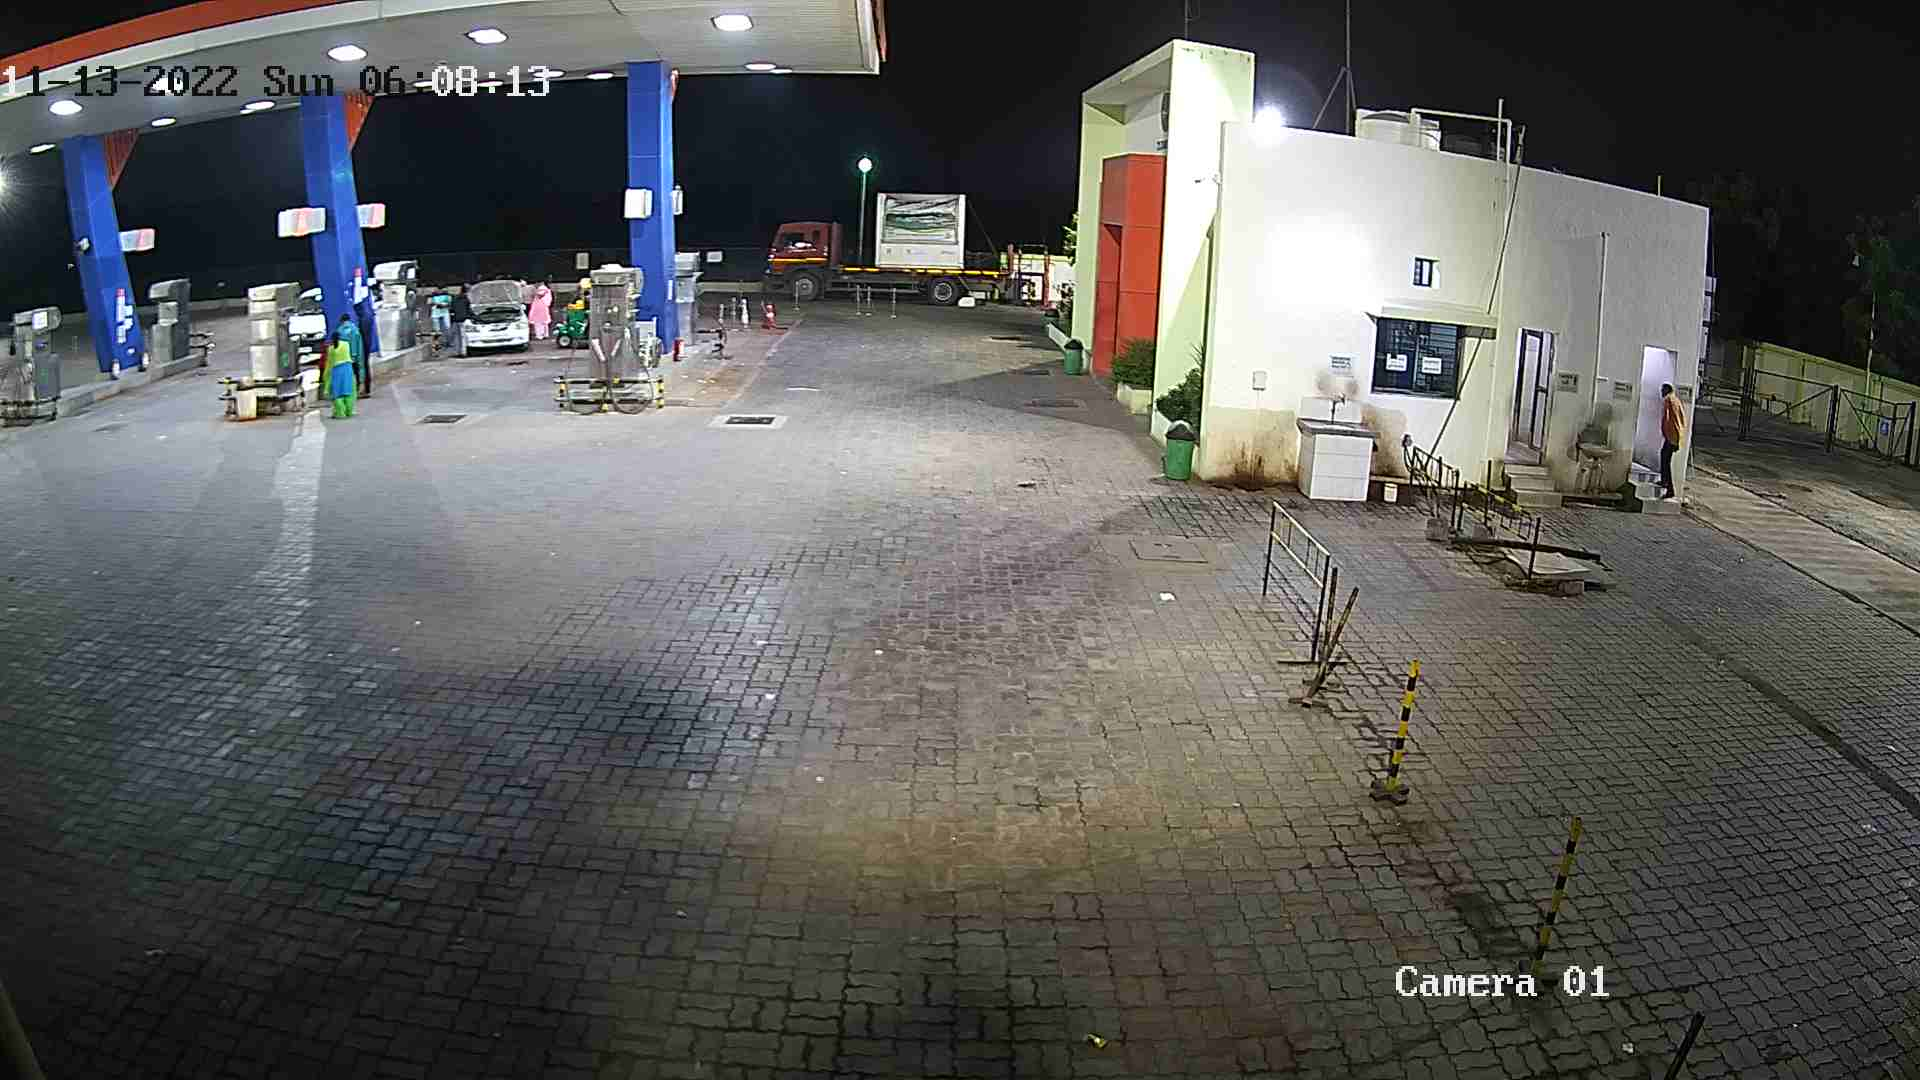Auto: (550, 269, 596, 356)
Car: (448, 274, 537, 361), (276, 280, 332, 368)
HMV: (758, 189, 1048, 307)
